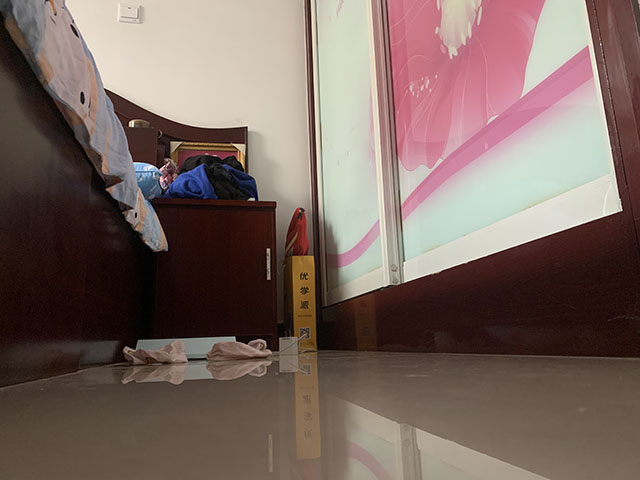bed: (1, 1, 250, 389)
cabinet: (303, 1, 640, 359), (138, 196, 282, 355)
socks: (121, 338, 189, 366), (205, 338, 272, 362)
wire: (273, 330, 308, 356)
